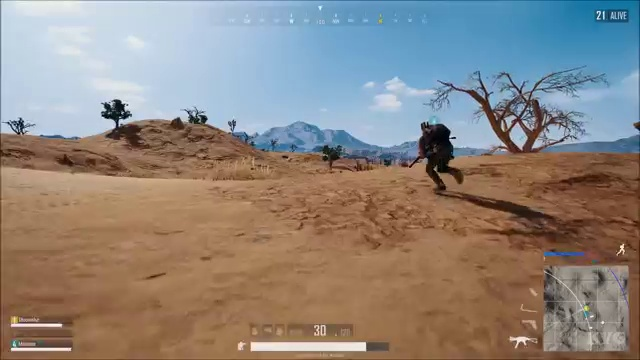Player: (403, 116, 475, 206)
